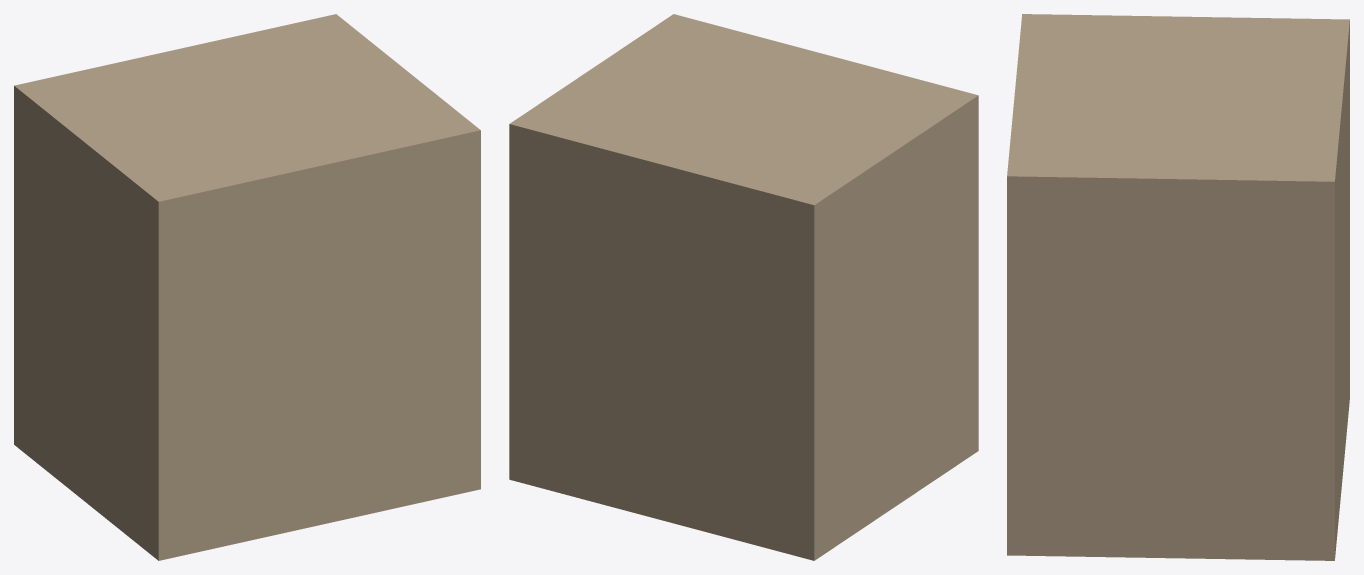
The model's file is bld_101374772.dae.
3 renders of one model, left to right at view 1: azimuth 30°, elevation 25°; view 2: azimuth 150°, elevation 25°; view 3: azimuth 270°, elevation 25°, orthographic. The views are drawn at different scales.
Visible parts, largest first — view 1: bld_101374772; view 2: bld_101374772; view 3: bld_101374772.
Boxes of the visible parts, x1=… form: bld_101374772: x1=14, y1=14, x2=480, y2=560; bld_101374772: x1=509, y1=14, x2=978, y2=560; bld_101374772: x1=1007, y1=14, x2=1349, y2=560.
Bounding box in the file's own units: 7.59 × 6.56 × 8.
